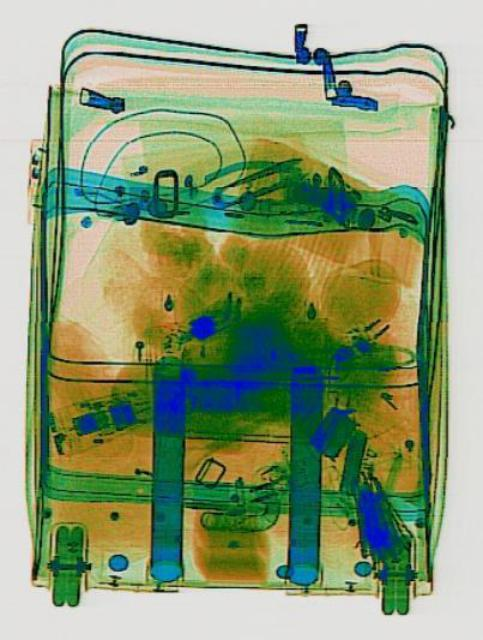Scissors: (207, 149, 306, 217)
